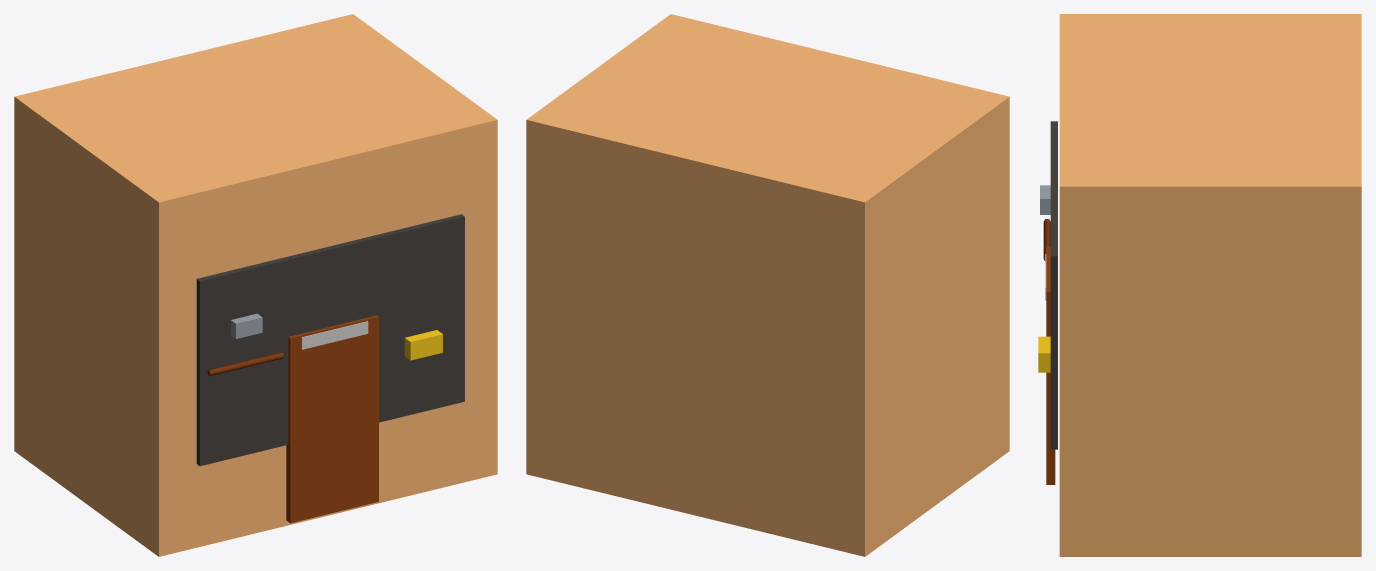
The model's file is tools.glb.
The picture shows the model from 3 angles, left to right: view 1: azimuth 30°, elevation 25°; view 2: azimuth 150°, elevation 25°; view 3: azimuth 270°, elevation 25°; orthographic projection. The views are drawn at different scales.
Bounding box in the file's own units: 1.73 × 1.73 × 1.37.
